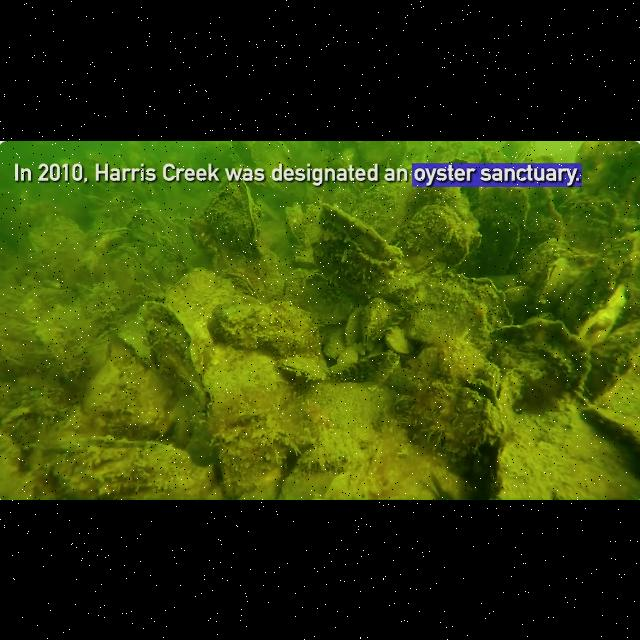Oyster-Closed: (39, 430, 217, 500), (396, 379, 504, 477), (399, 267, 513, 351), (484, 318, 592, 402), (311, 202, 405, 290), (163, 266, 233, 372), (208, 410, 290, 500), (138, 298, 202, 392), (389, 203, 473, 273), (204, 346, 282, 418), (202, 171, 262, 259), (209, 297, 279, 348), (476, 182, 532, 238), (574, 286, 628, 344), (77, 362, 129, 418), (576, 404, 640, 448), (30, 216, 90, 262), (388, 178, 469, 212), (100, 244, 152, 296), (518, 236, 578, 280), (598, 223, 640, 284), (480, 213, 518, 270), (124, 206, 168, 252), (497, 278, 541, 316), (156, 229, 184, 267), (86, 334, 114, 372), (382, 327, 412, 357), (346, 304, 368, 344), (322, 328, 348, 360), (64, 347, 84, 383)
Oyster-Open: (568, 140, 640, 204), (357, 291, 395, 353), (535, 254, 571, 306), (280, 353, 328, 382), (222, 269, 258, 301), (2, 403, 36, 431), (94, 223, 132, 244)
